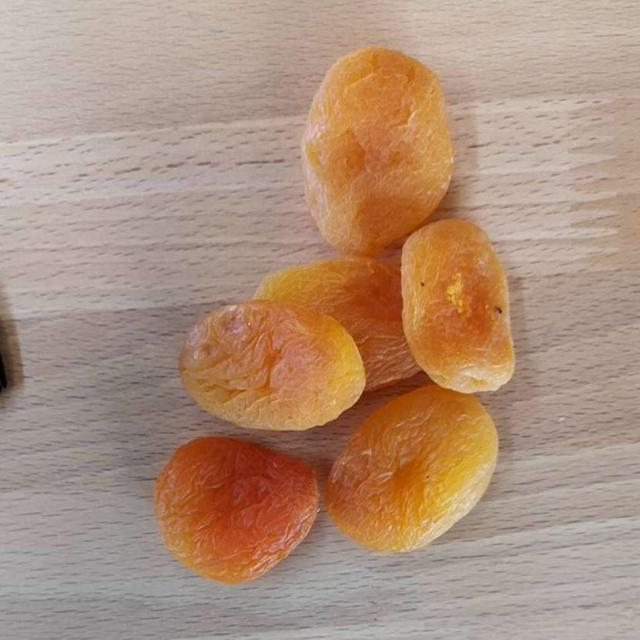apricot-dried: (164, 51, 510, 570)
